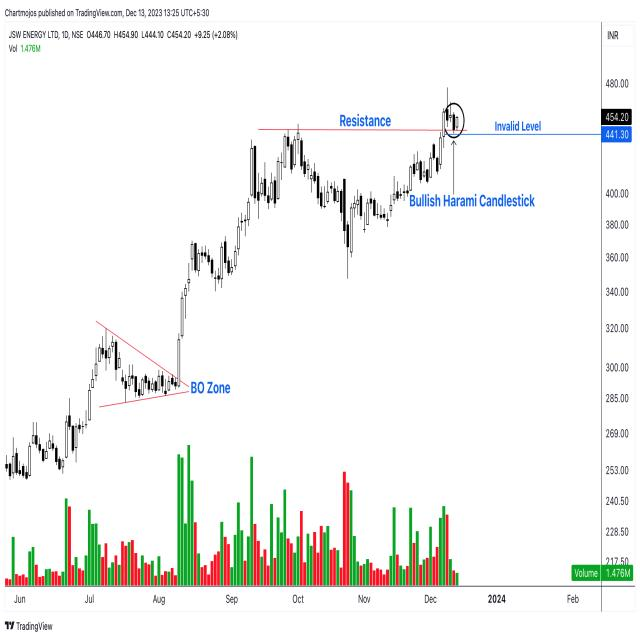Triangle: (91, 320, 191, 408)
